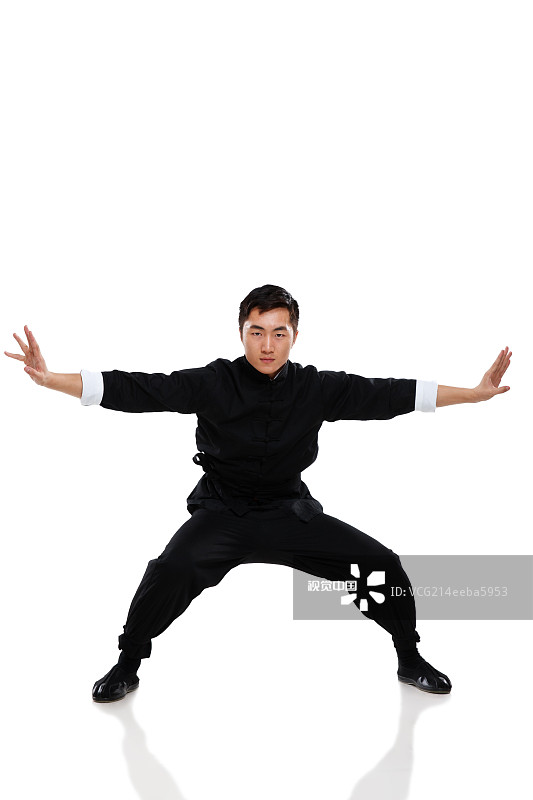no-phone: (1, 319, 65, 400), (463, 338, 522, 422)
